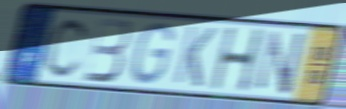B: (81, 16, 132, 85)
C: (42, 15, 93, 80)
G: (129, 21, 176, 86)
H: (209, 26, 267, 93)
K: (170, 23, 218, 90)
N: (254, 29, 308, 97)
